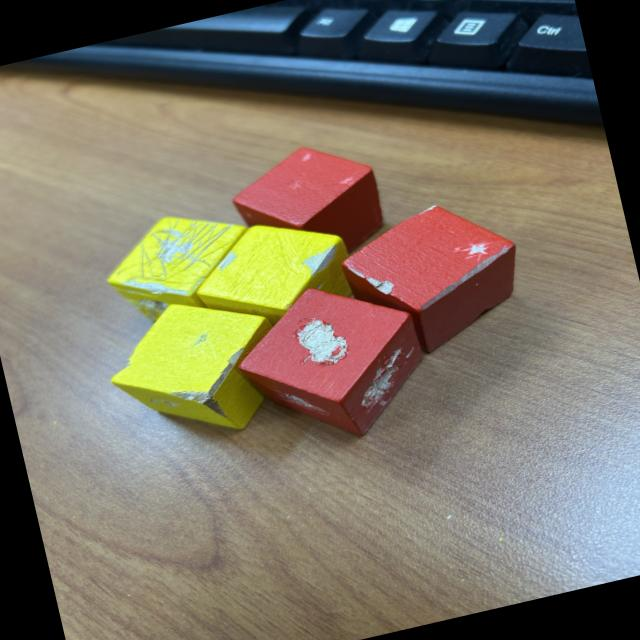broken: (221, 265, 440, 461), (331, 188, 535, 368), (94, 282, 295, 458), (182, 204, 364, 346), (223, 130, 392, 276), (94, 198, 266, 335)
